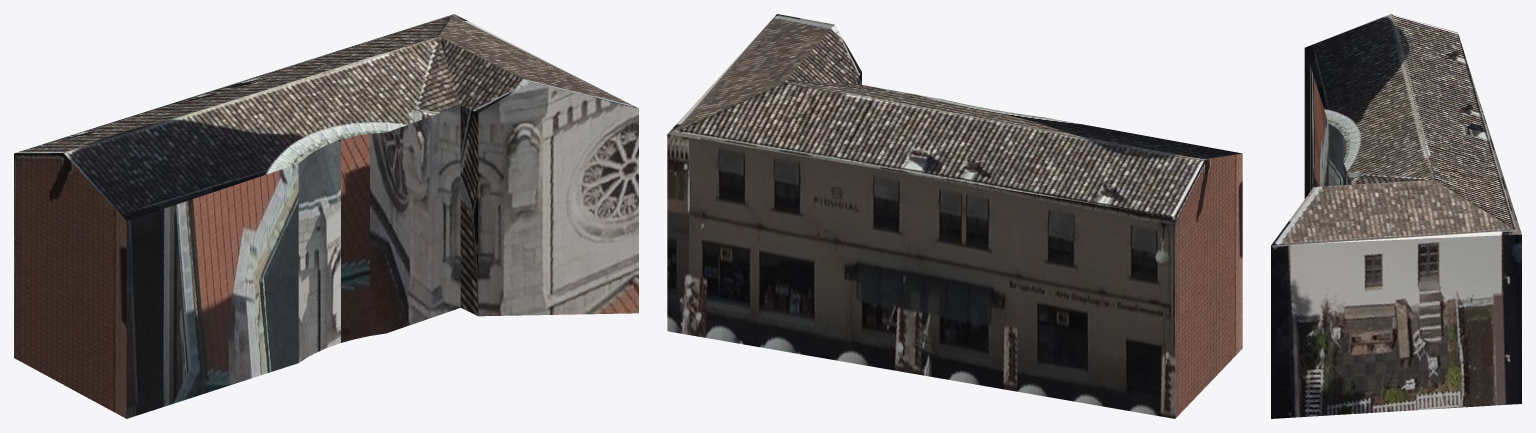
The picture shows the model from 3 angles, left to right: view 1: azimuth 30°, elevation 25°; view 2: azimuth 150°, elevation 25°; view 3: azimuth 270°, elevation 25°; orthographic projection. The views are drawn at different scales.
Visible parts, largest first — view 1: Z_UP; view 2: Z_UP; view 3: Z_UP.
Part boxes in pixels (x1,y1,x2,y2): Z_UP: (14,14,638,418); Z_UP: (667,14,1242,418); Z_UP: (1271,14,1521,418).
Bounding box in the file's own units: 23.56 × 10.2 × 11.74.
2 materials, 1 textured.
